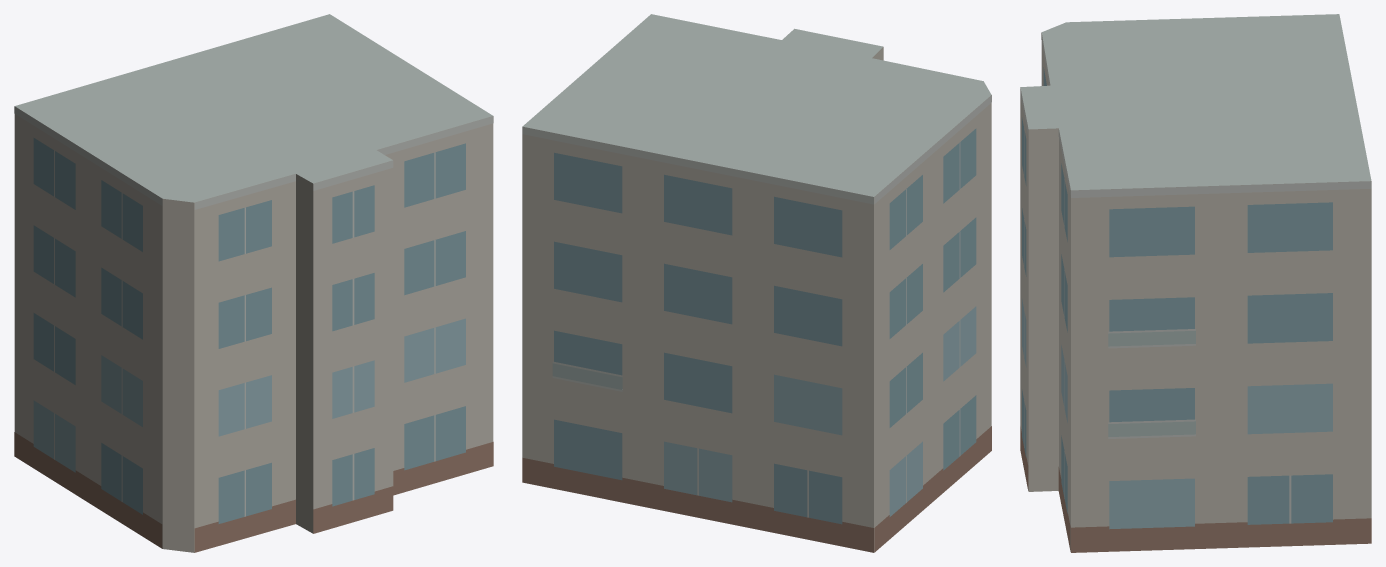
Rendered from survey-upis-32701891.glb.
The picture shows the model from 3 angles, left to right: view 1: azimuth 30°, elevation 25°; view 2: azimuth 150°, elevation 25°; view 3: azimuth 270°, elevation 25°; orthographic projection. The views are drawn at different scales.
Visible parts, largest first — view 1: survey-upis-32701891.tmp; view 2: survey-upis-32701891.tmp; view 3: survey-upis-32701891.tmp.
Part boxes in pixels (x1,y1,x2,y2): survey-upis-32701891.tmp: (14, 14, 493, 552); survey-upis-32701891.tmp: (522, 14, 991, 552); survey-upis-32701891.tmp: (1020, 14, 1371, 552).
Size of the model in its own units: 11.96 by 11.45 by 10.06.
